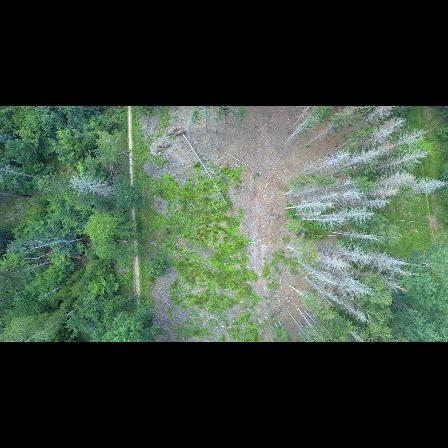Dead: (67, 168, 110, 200), (333, 296, 373, 326), (375, 130, 424, 154), (375, 167, 422, 191), (362, 116, 406, 141), (286, 195, 336, 216), (383, 151, 427, 174), (308, 153, 348, 178), (310, 190, 364, 204), (334, 228, 386, 242), (414, 175, 446, 197), (337, 247, 378, 263), (317, 255, 357, 271), (366, 254, 418, 266), (356, 134, 391, 150), (370, 186, 402, 203), (300, 217, 344, 229), (340, 208, 374, 222), (336, 278, 371, 291), (379, 274, 411, 287), (315, 270, 344, 284), (361, 197, 389, 210)
